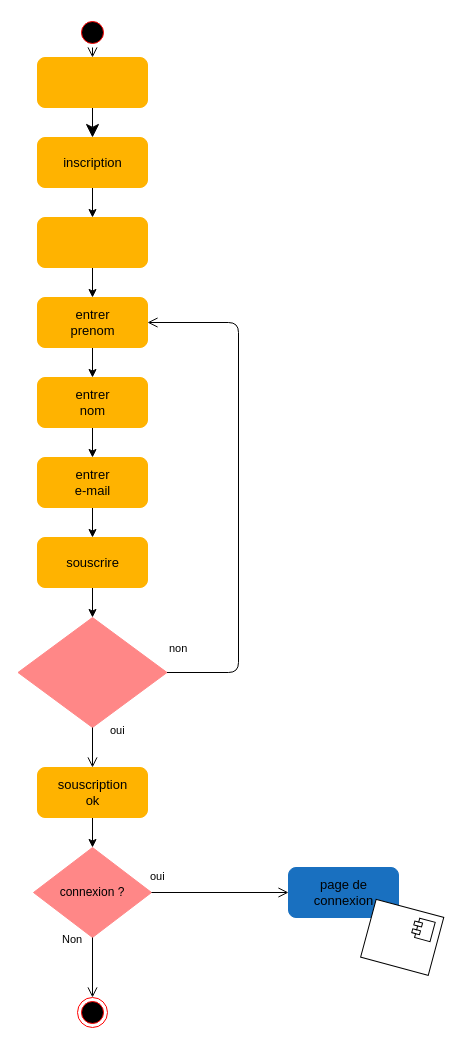
The diagram is 461 pixels wide and 1045 high, and some of its shapes have lost their labels. Here are the shapes that lost their labels. From the top down, the centre of each, then its label:
At point 92,82: "Homepage generique".
At point 92,242: "page formulaire inscription".
At point 92,672: "formulaire valide ?".
At point 402,937: "voir scénario user lambda".
